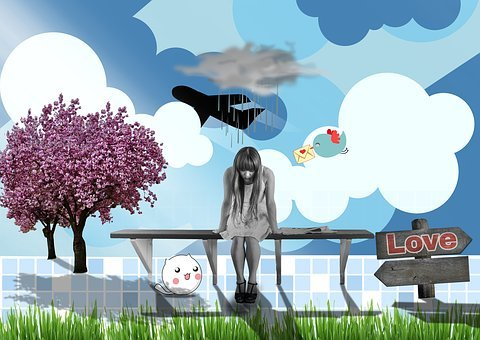aeroplane: (167, 77, 271, 140)
bird: (309, 128, 351, 162)
cat: (154, 250, 204, 299)
person: (214, 143, 279, 309)
